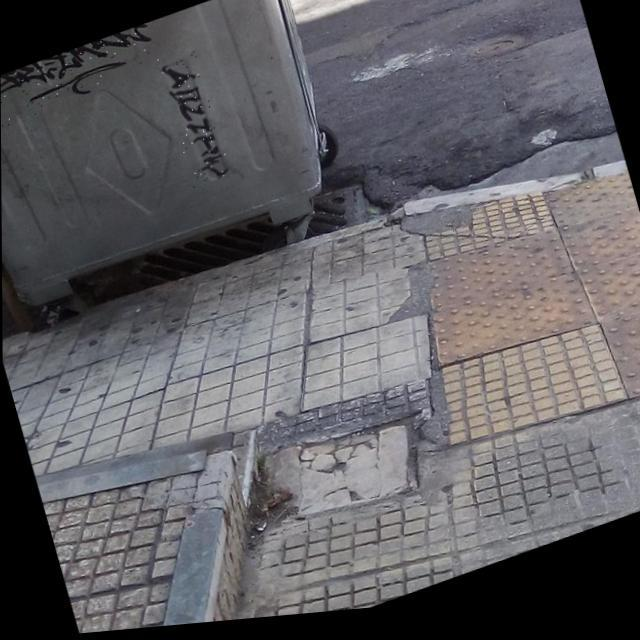-: (0, 23, 162, 130), (159, 54, 232, 194)
